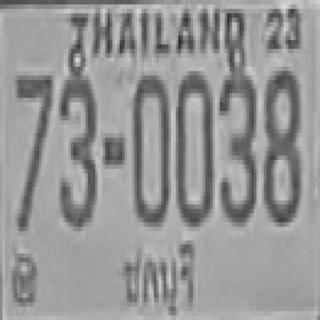N00: (175, 69, 211, 225), (132, 71, 169, 222)
N03: (56, 71, 95, 227), (217, 69, 254, 220)
N07: (15, 71, 51, 227)
N08: (261, 67, 298, 222)
P13: (117, 237, 199, 318)
